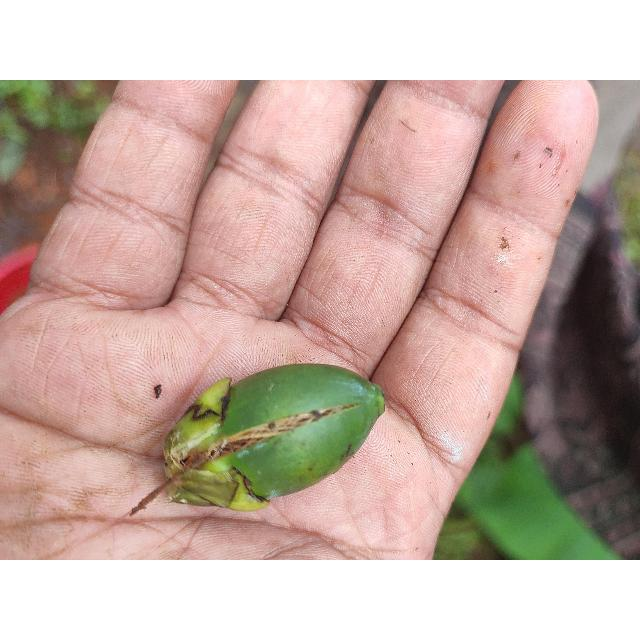damaged: (157, 363, 386, 514)
